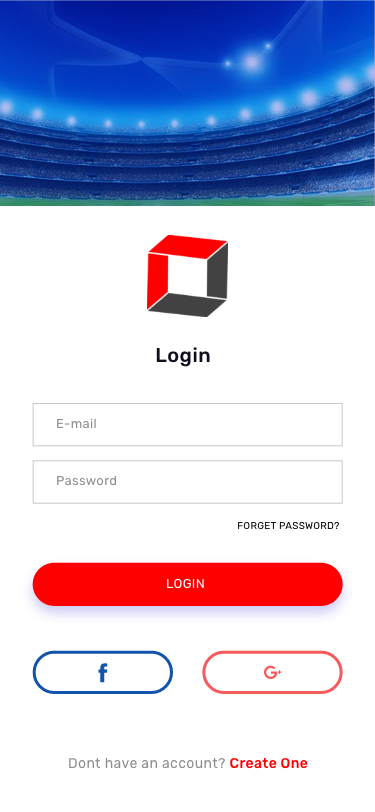EditText: (33, 460, 343, 505), (33, 403, 343, 447)
Image: (1, 1, 375, 207), (147, 235, 229, 319)
Text: (69, 757, 226, 769), (156, 346, 212, 368), (230, 757, 308, 769), (238, 521, 340, 530), (57, 476, 117, 486), (57, 419, 97, 429)
TextButton: (33, 562, 344, 607), (202, 650, 344, 695), (33, 650, 174, 695)
